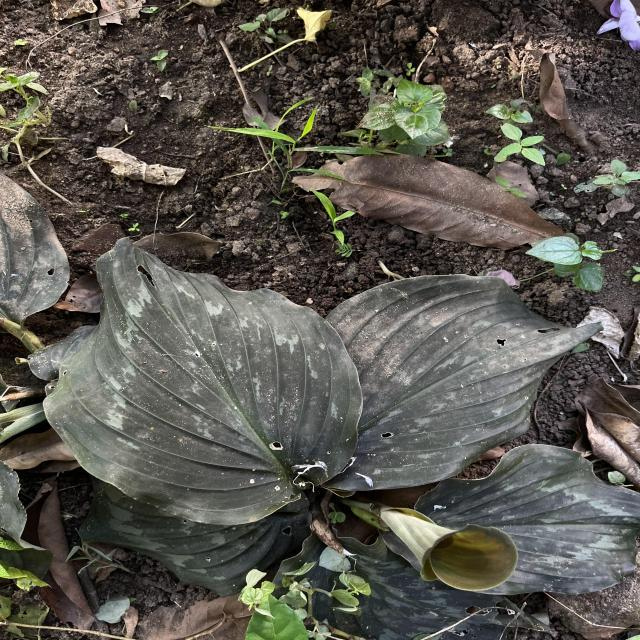Kaempferia galanga linn: (40, 232, 368, 528), (324, 272, 606, 494), (412, 441, 640, 597)
